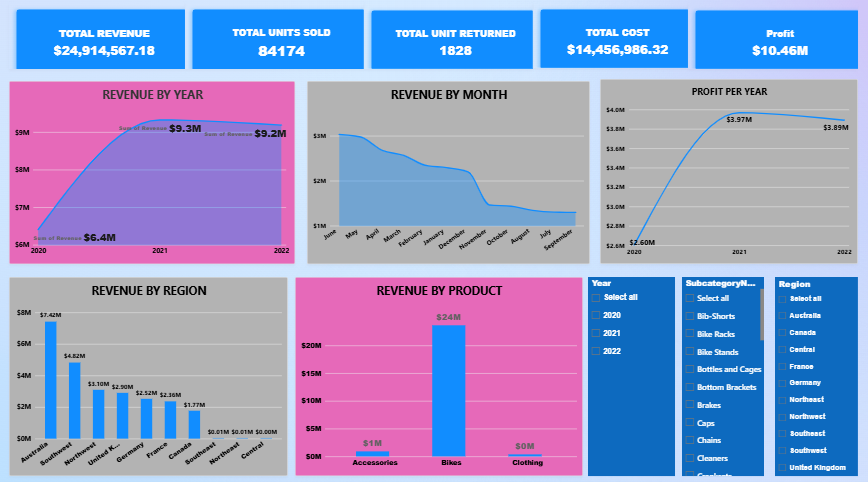

The page's visual inventory and layout, read from the dashboard file:
{"tool":"powerbi","page":{"name":"Page 1","canvas":[1920,1080],"ordinal":0},"visuals":[{"type":"areaChart","title":"REVENUE BY YEAR","fields":{"Y":["Sum(Sales_2020-2022.Revenue)"],"Category":["Calendar.YEAR"]},"box":[24.1,193.2,627.8,401.7],"z":0},{"type":"cardVisual","fields":{"Data":["Sum(Sales_2020-2022.OrderQuantity)"]},"box":[410.5,19.8,392.9,147.1],"z":1000},{"type":"cardVisual","fields":{"Data":["Sum(Sales_2020-2022.Revenue)"]},"box":[24.1,19.8,386.3,147.1],"z":2000},{"type":"cardVisual","fields":{"Data":["Sum(Returns Data.ReturnQuantity)"]},"box":[803.4,22,371,144.9],"z":3000},{"type":"areaChart","title":"REVENUE BY MONTH","fields":{"Y":["Sum(Sales_2020-2022.Revenue)"],"Category":["Calendar.Month"]},"box":[678.3,193.2,621.2,401.7],"z":4000},{"type":"columnChart","title":"REVENUE BY PRODUCT","fields":{"Category":["Product Category.CategoryName","Product Subcategories.SubcategoryName"],"Y":["Sum(Sales_2020-2022.Revenue)"]},"box":[652,623.4,632.2,436.8],"z":5000},{"type":"columnChart","title":"REVENUE BY REGION","fields":{"Category":["Territory.Region"],"Y":["Sum(Sales_2020-2022.Revenue)"]},"box":[24.1,623.4,612.4,436.8],"z":6000},{"type":"lineChart","title":"PROFIT PER YEAR","fields":{"Y":["Sales_2020-2022.PROFIT"],"Category":["Calendar.YEAR"]},"box":[1321.5,188.8,566.3,406.1],"z":7000},{"type":"cardVisual","fields":{"Data":["Sum(Sales_2020-2022.Cost)"]},"box":[1174.4,19.8,340.2,144.9],"z":8000},{"type":"cardVisual","fields":{"Data":["Sales_2020-2022.Profit"]},"box":[1514.6,22,373.2,144.9],"z":9000},{"type":"slicer","fields":{"Values":["Calendar.Year"]},"box":[1295.1,623.4,191,436.8],"z":10000},{"type":"slicer","fields":{"Values":["Product Subcategories.SubcategoryName"]},"box":[1501.5,623.4,180,436.8],"z":11000},{"type":"slicer","fields":{"Values":["Territory.Region"]},"box":[1705.6,623.4,182.2,436.8],"z":12000}]}

Visuals, with their boxes in screenshot pixels (x1, y1, x2, y2), scaled from the page's 1920x1080 canvas onto the 868x482 screenshot:
"REVENUE BY YEAR" areaChart: x1=11, y1=86, x2=295, y2=266
cardVisual - Sum(Sales_2020-2022.OrderQuantity): x1=186, y1=9, x2=363, y2=74
cardVisual - Sum(Sales_2020-2022.Revenue): x1=11, y1=9, x2=186, y2=74
cardVisual - Sum(Returns Data.ReturnQuantity): x1=363, y1=10, x2=531, y2=74
"REVENUE BY MONTH" areaChart: x1=307, y1=86, x2=587, y2=266
"REVENUE BY PRODUCT" columnChart: x1=295, y1=278, x2=581, y2=473
"REVENUE BY REGION" columnChart: x1=11, y1=278, x2=288, y2=473
"PROFIT PER YEAR" lineChart: x1=597, y1=84, x2=853, y2=266
cardVisual - Sum(Sales_2020-2022.Cost): x1=531, y1=9, x2=685, y2=74
cardVisual - Sales_2020-2022.Profit: x1=685, y1=10, x2=853, y2=74
slicer - Calendar.Year: x1=585, y1=278, x2=672, y2=473
slicer - Product Subcategories.SubcategoryName: x1=679, y1=278, x2=760, y2=473
slicer - Territory.Region: x1=771, y1=278, x2=853, y2=473
